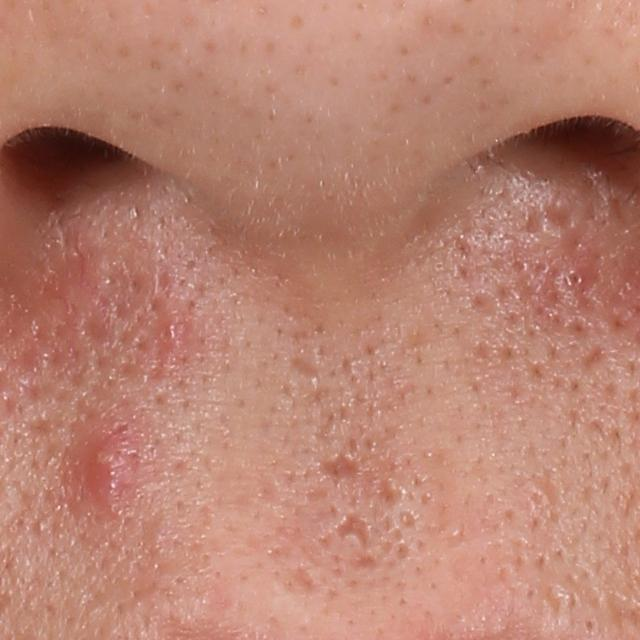atrophic_scar: (317, 449, 369, 480), (331, 512, 371, 548), (377, 469, 411, 510), (287, 351, 324, 381), (580, 341, 608, 373), (346, 550, 380, 572)
